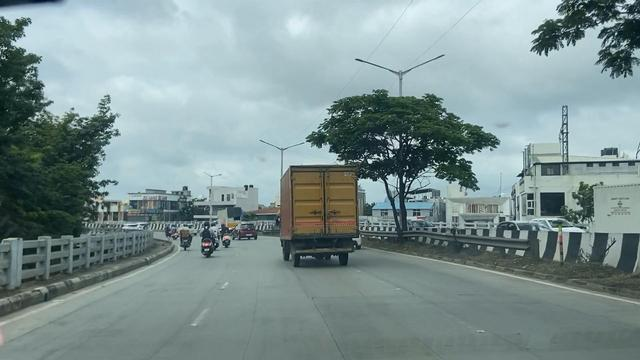HMV: (277, 151, 363, 269)
LMV: (195, 216, 215, 249), (177, 222, 192, 254), (222, 221, 234, 253), (238, 223, 255, 242)
